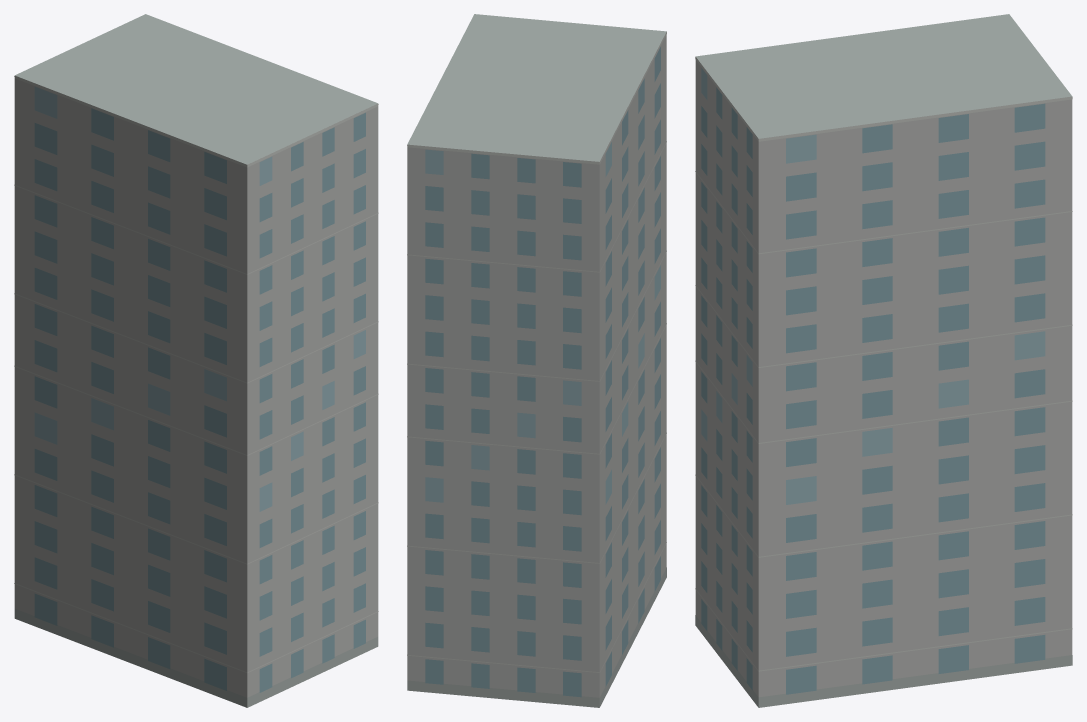
File: survey-upis-32777291.glb
The picture shows the model from 3 angles, left to right: view 1: azimuth 30°, elevation 25°; view 2: azimuth 150°, elevation 25°; view 3: azimuth 270°, elevation 25°; orthographic projection. The views are drawn at different scales.
Visible parts, largest first — view 1: survey-upis-32777291.tmp; view 2: survey-upis-32777291.tmp; view 3: survey-upis-32777291.tmp.
Boxes of the visible parts, bbox=[...] form: survey-upis-32777291.tmp: bbox=[14, 14, 378, 707]; survey-upis-32777291.tmp: bbox=[407, 14, 666, 707]; survey-upis-32777291.tmp: bbox=[695, 14, 1072, 707].
Size of the model in its own units: 22.47 by 47.7 by 28.66.
